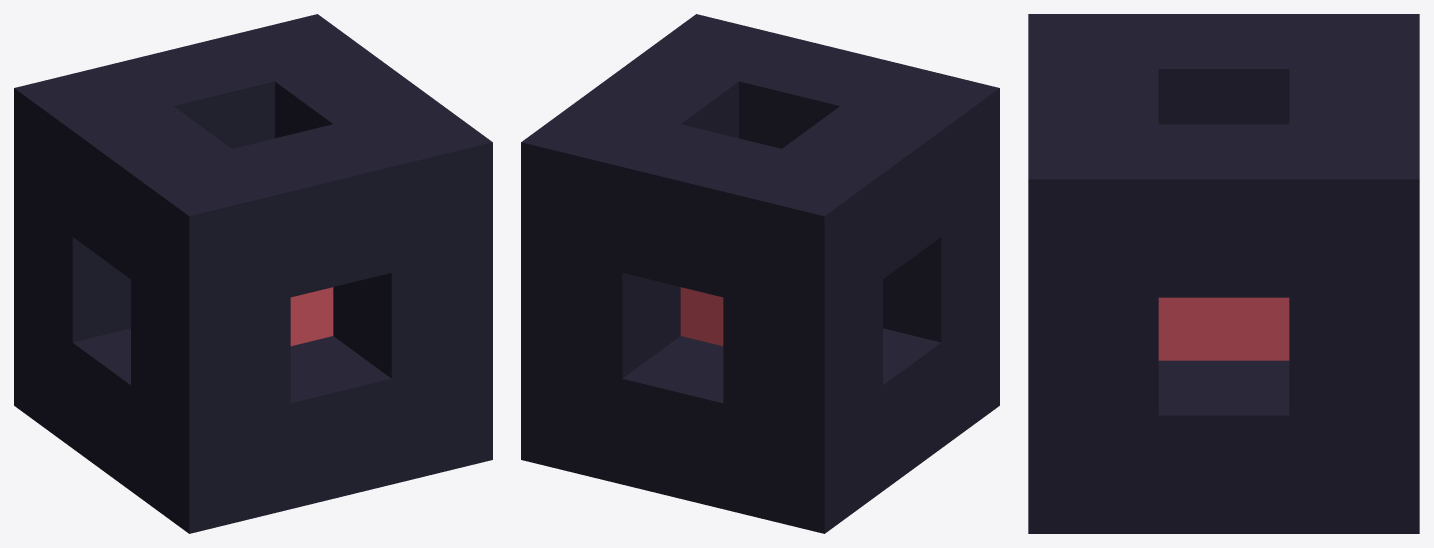
File: corner.gltf
The picture shows the model from 3 angles, left to right: view 1: azimuth 30°, elevation 25°; view 2: azimuth 150°, elevation 25°; view 3: azimuth 270°, elevation 25°; orthographic projection. The views are drawn at different scales.
Visible parts, largest first — view 1: Layer.1; view 2: Layer.1; view 3: Layer.1.
Part boxes in pixels (x1,y1,x2,y2): Layer.1: [14, 14, 492, 533]; Layer.1: [521, 14, 999, 533]; Layer.1: [1028, 14, 1419, 533].
Bounding box in the file's own units: 3 × 3 × 3.
Materials: 1 (1 with a texture image).
